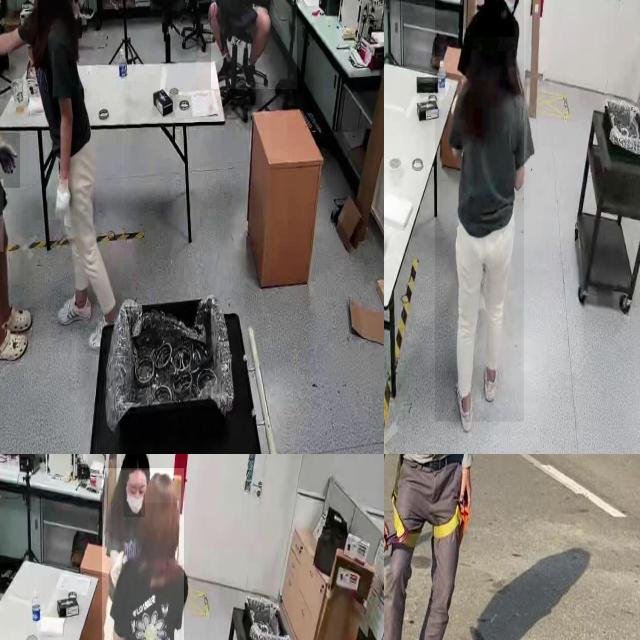Harness: (389, 506, 470, 550), (394, 512, 405, 530)
face_mask: (123, 483, 145, 517)
hand_glove: (48, 171, 76, 221), (0, 132, 20, 188)
head_nohelmet: (477, 0, 515, 37), (143, 471, 177, 504), (121, 454, 150, 470)
person: (11, 0, 122, 353), (435, 0, 524, 423), (101, 468, 184, 640), (210, 0, 297, 90)
shoes: (54, 287, 96, 333), (452, 370, 476, 433), (481, 349, 501, 410), (75, 0, 94, 29)
